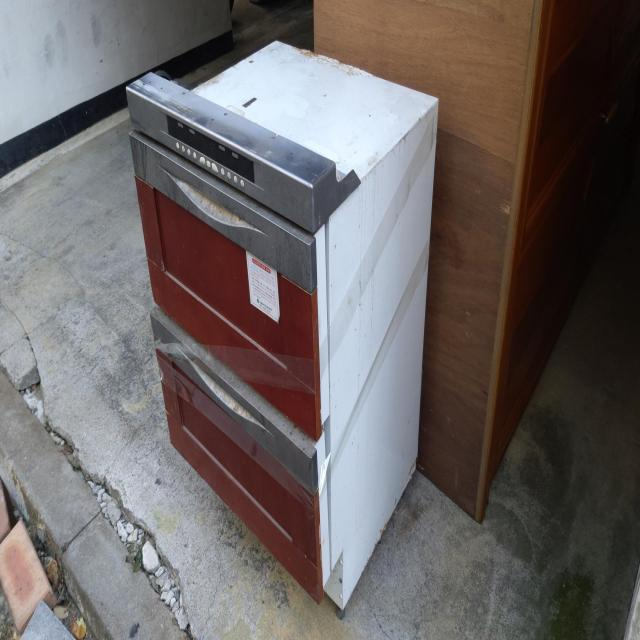refrigerator: (126, 39, 440, 615)
